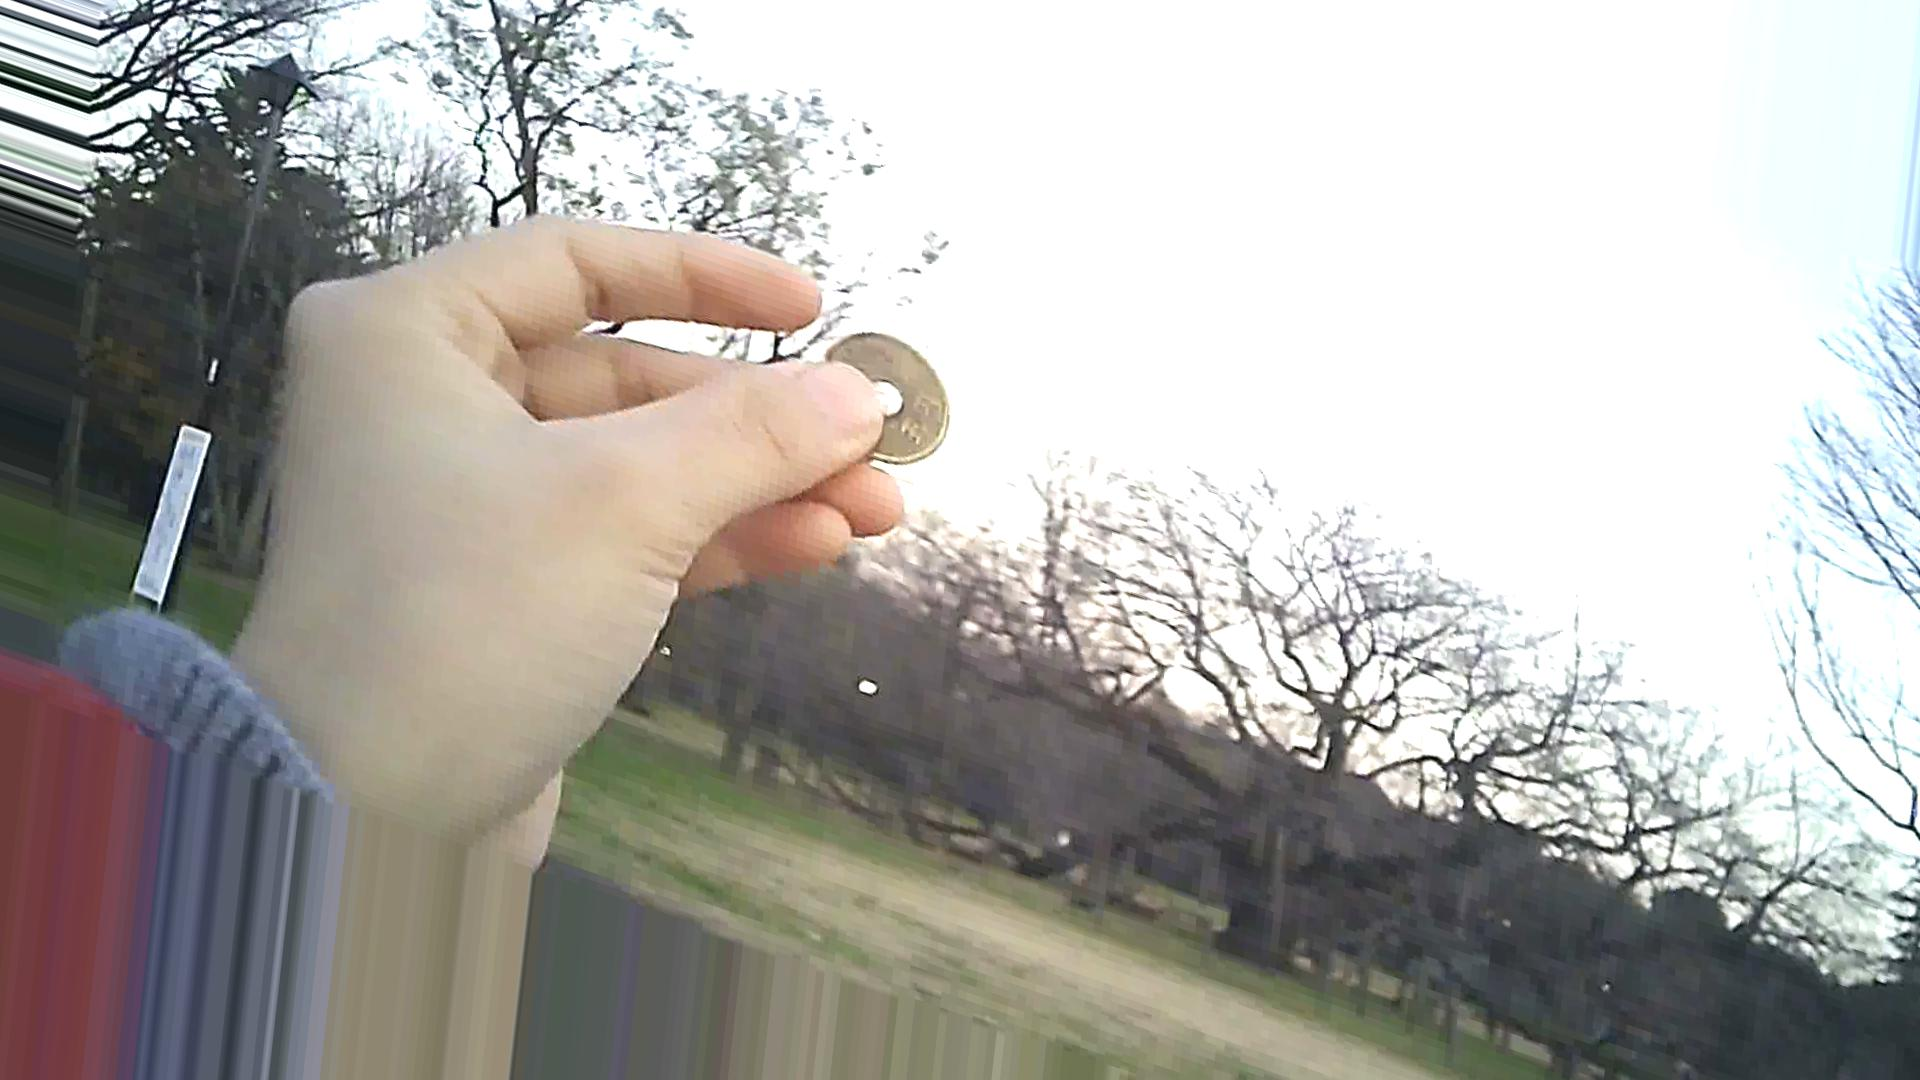5 Yen: (818, 309, 964, 480)
